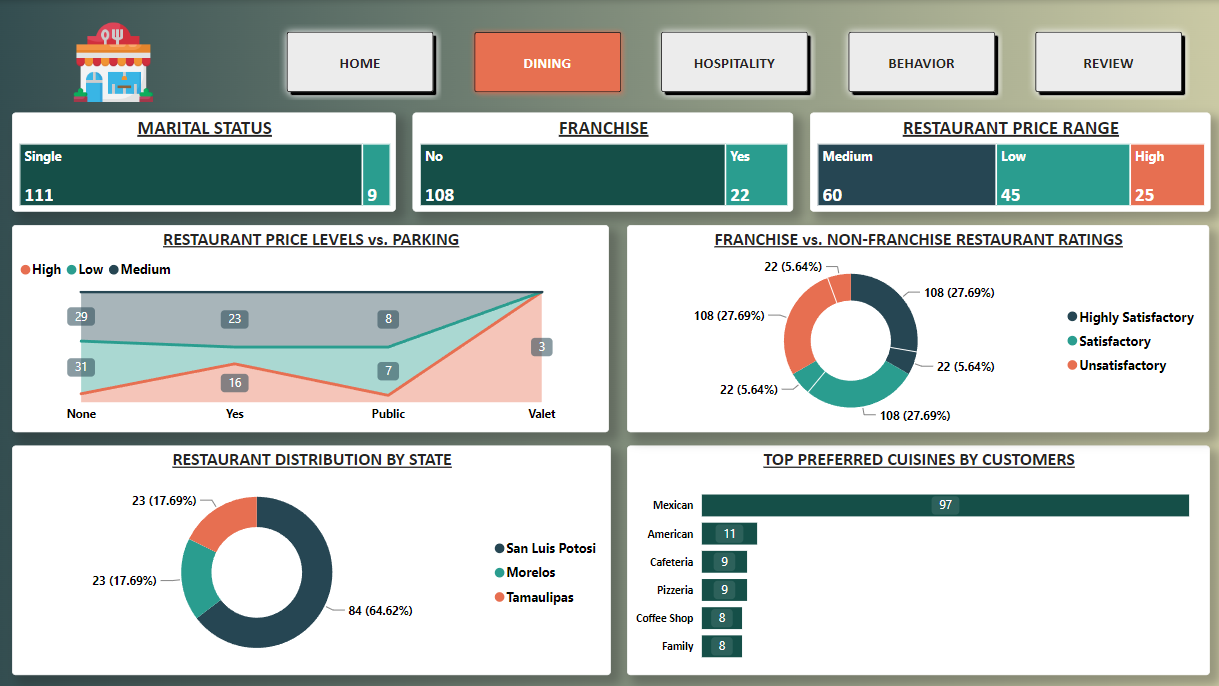

What the dashboard file says about the page in this screenshot:
{"tool":"powerbi","page":{"name":"DINING","canvas":[1280,720],"ordinal":1},"visuals":[{"type":"treemap","title":"MARITAL STATUS","fields":{"Values":["CountNonNull(consumers.Marital_Status)"],"Group":["consumers.Marital_Status"]},"box":[15.6,117.2,400.1,103.2],"z":0},{"type":"treemap","title":"FRANCHISE","fields":{"Values":["CountNonNull(restaurants.Franchise)"],"Group":["restaurants.Franchise"]},"box":[432.9,117.2,397,103.2],"z":1000},{"type":"treemap","title":"RESTAURANT PRICE RANGE","fields":{"Group":["restaurants.Price"],"Values":["CountNonNull(restaurants.Price)"]},"box":[847.1,117.2,417.3,103.2],"z":2000},{"type":"hundredPercentStackedAreaChart","title":"RESTAURANT PRICE LEVELS vs. PARKING","fields":{"Category":["restaurants.Parking"],"Series":["restaurants.Price"],"Y":["CountNonNull(restaurants.Restaurant_ID)"]},"box":[15.6,234.4,622.1,215.7],"z":3000},{"type":"donutChart","title":"RESTAURANT DISTRIBUTION BY STATE","fields":{"Category":["restaurants.State"],"Y":["CountNonNull(restaurants.Restaurant_ID)"]},"box":[15.3,464.2,624.1,239.1],"z":4000},{"type":"barChart","title":"TOP PREFERRED CUISINES BY CUSTOMERS","fields":{"Category":["consumer_preferences.Preferred_Cuisine"],"Y":["CountNonNull(consumer_preferences.Consumer_ID)"]},"box":[656.1,464.2,607.4,239.1],"z":5000},{"type":"donutChart","title":"FRANCHISE vs. NON-FRANCHISE RESTAURANT RATINGS","fields":{"Y":["CountNonNull(restaurants.Restaurant_ID)"],"Category":["ratings.Overall_Rating_Category"],"Series":["restaurants.Franchise"]},"box":[656.5,234.4,606.4,215.7],"z":6000},{"type":"image","box":[70.3,12.5,101.6,104.7],"z":7000},{"type":"pageNavigator","box":[293.8,25,950.3,79.7],"z":8000}]}

Visuals, with their boxes in screenshot pixels (x1, y1, x2, y2), scaled from the page's 1280x720 canvas onto the 1219x686 screenshot:
"MARITAL STATUS" treemap: select_region(15, 112, 396, 210)
"FRANCHISE" treemap: select_region(412, 112, 790, 210)
"RESTAURANT PRICE RANGE" treemap: select_region(807, 112, 1204, 210)
"RESTAURANT PRICE LEVELS vs. PARKING" hundredPercentStackedAreaChart: select_region(15, 223, 607, 429)
"RESTAURANT DISTRIBUTION BY STATE" donutChart: select_region(15, 442, 609, 670)
"TOP PREFERRED CUISINES BY CUSTOMERS" barChart: select_region(625, 442, 1203, 670)
"FRANCHISE vs. NON-FRANCHISE RESTAURANT RATINGS" donutChart: select_region(625, 223, 1203, 429)
image: select_region(67, 12, 164, 112)
pageNavigator: select_region(280, 24, 1185, 100)
